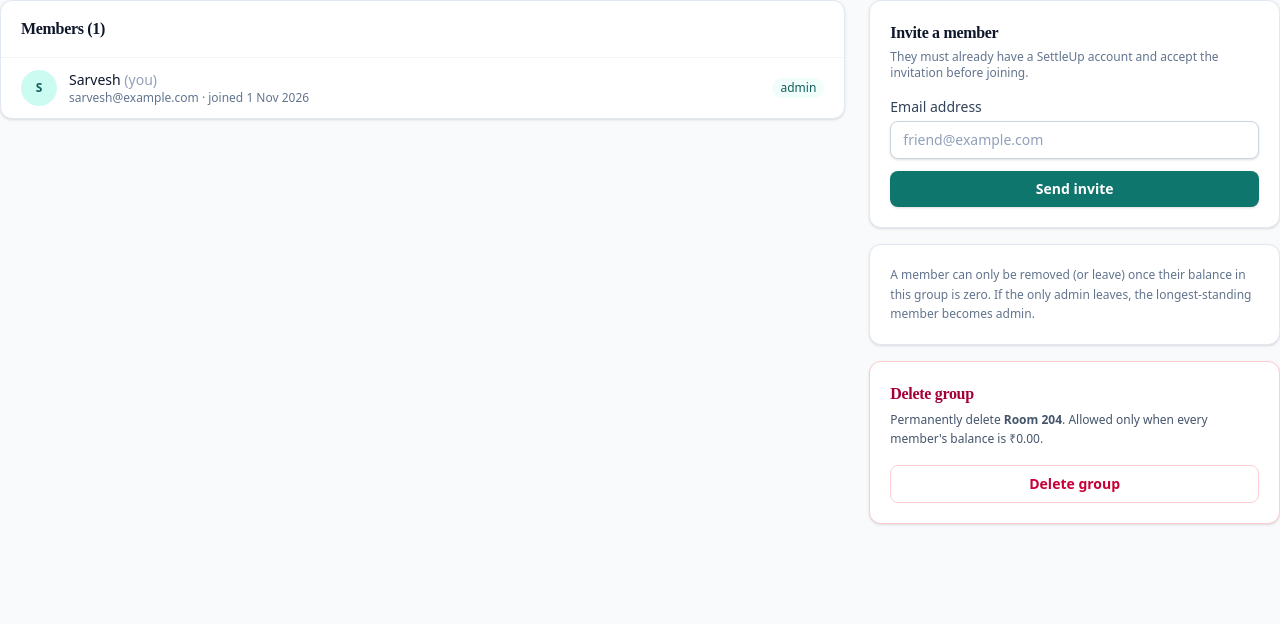
Test: MembersPage delete group › shows error when backend blocks deleting an unsettled group
The image size is (1280, 624).
Step 1. Click the button "Delete group" → [1075, 484], box [890, 464, 1259, 502]
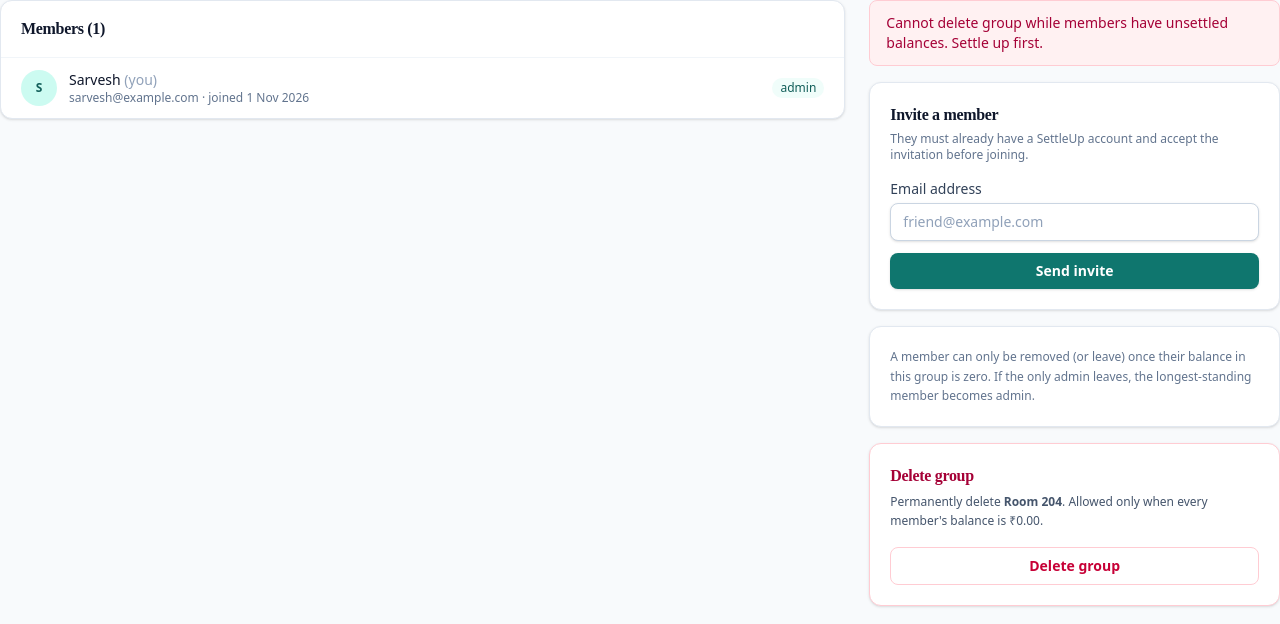
Expected: the message reads "Cannot delete group while members have unsettled balances. Settle up first.", [886, 13, 1228, 52]
